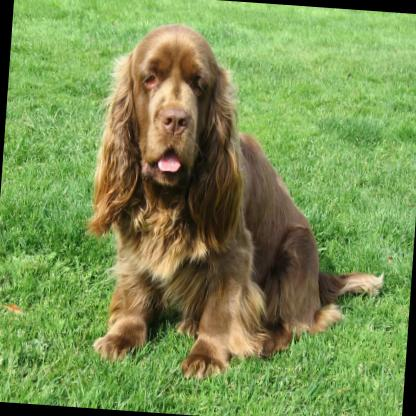Sussex_spaniel: (72, 17, 402, 394)
